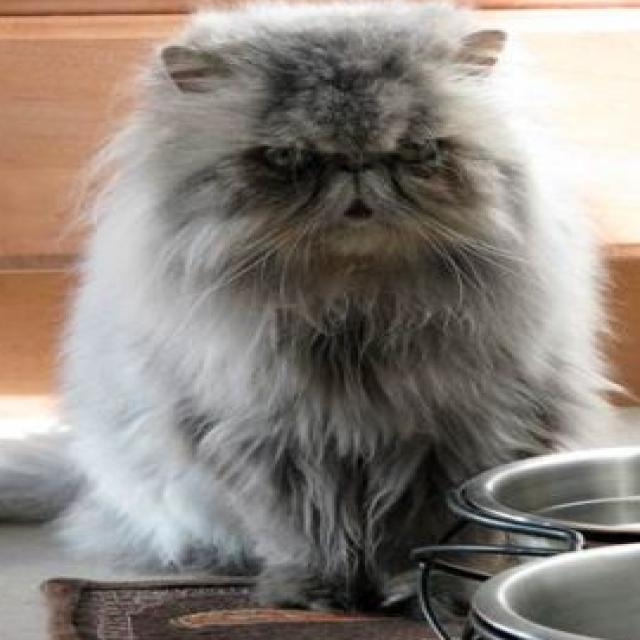Persian: (0, 0, 607, 612)
